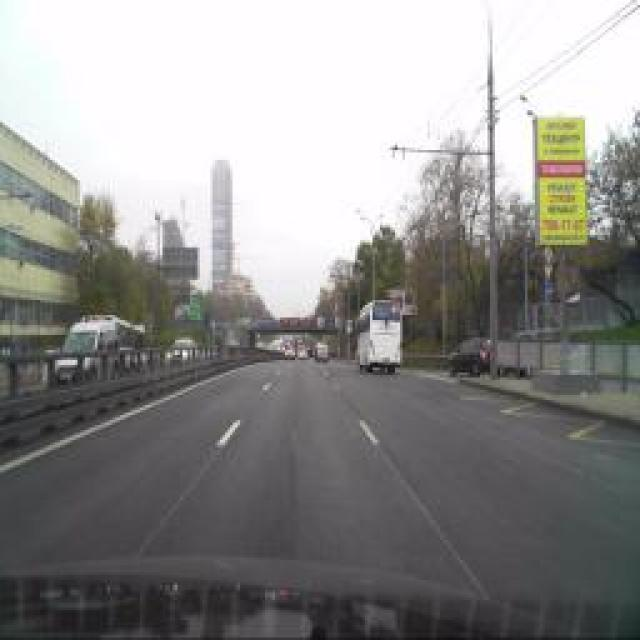sign: (545, 281, 553, 299)
